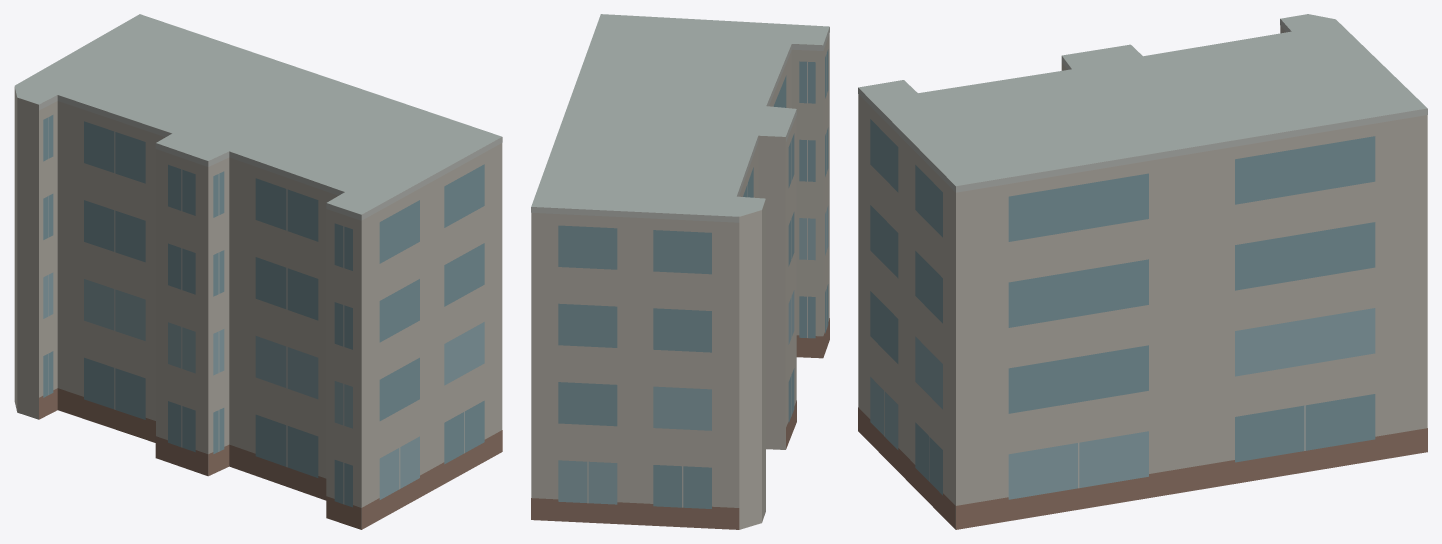
Rendered from survey-upis-32907361.glb.
The picture shows the model from 3 angles, left to right: view 1: azimuth 30°, elevation 25°; view 2: azimuth 150°, elevation 25°; view 3: azimuth 270°, elevation 25°; orthographic projection. The views are drawn at different scales.
Visible parts, largest first — view 1: survey-upis-32907361.tmp; view 2: survey-upis-32907361.tmp; view 3: survey-upis-32907361.tmp.
Boxes of the visible parts, x1,y1,x2,y2 form: survey-upis-32907361.tmp: [14, 14, 502, 529]; survey-upis-32907361.tmp: [531, 14, 829, 529]; survey-upis-32907361.tmp: [858, 14, 1427, 529].
Size of the model in its own units: 13.88 by 12.9 by 19.39.
